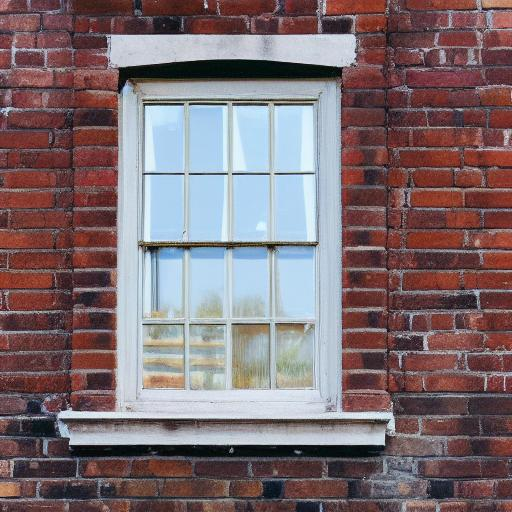Window: (51, 0, 398, 452)
